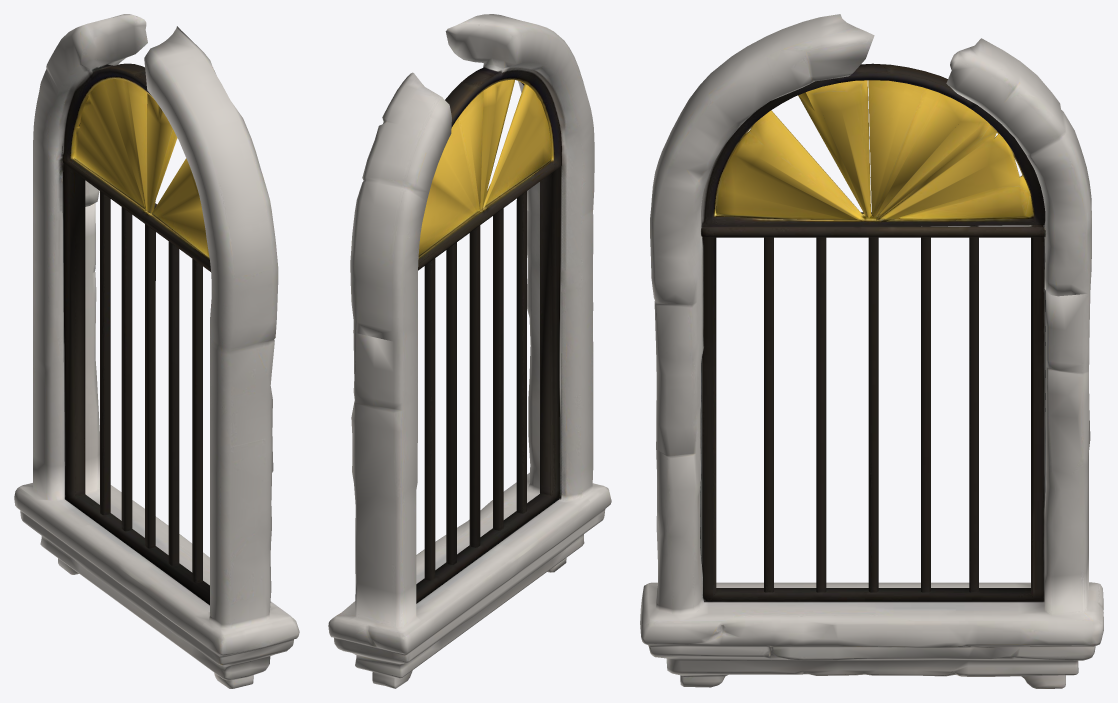
3 renders of one model, left to right at view 1: azimuth 30°, elevation 25°; view 2: azimuth 150°, elevation 25°; view 3: azimuth 270°, elevation 25°, orthographic. The views are drawn at different scales.
Bounding box in the file's own units: 0.146 × 0.9995 × 0.6353.
1 material, 1 textured.
